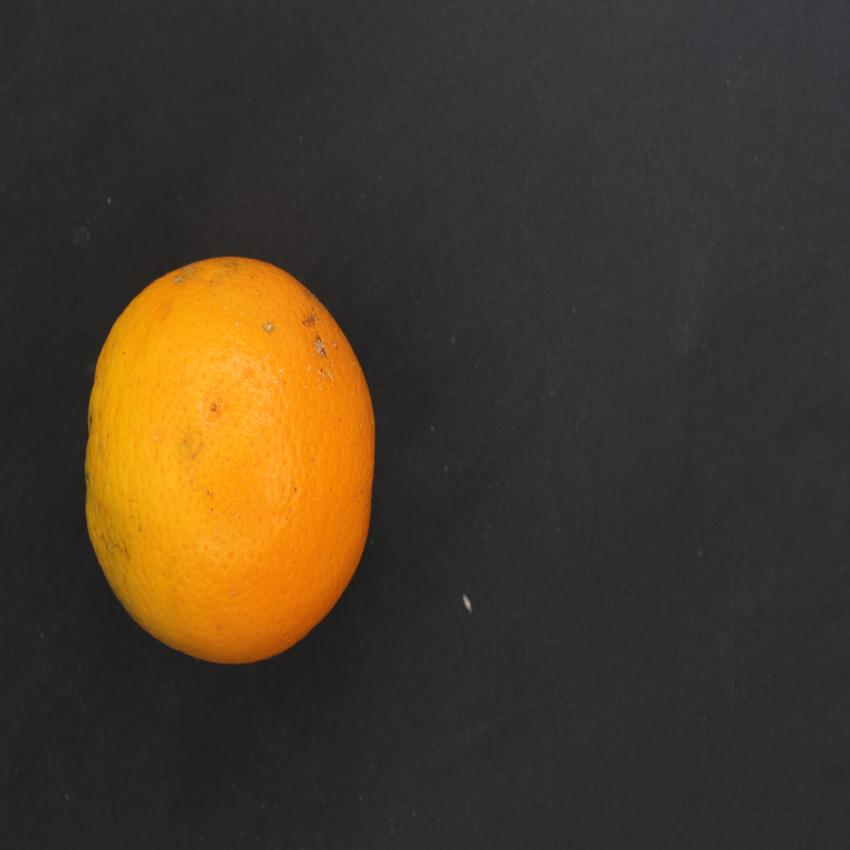Buen estado: (65, 240, 395, 675)
